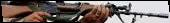gun: (1, 1, 170, 23)
